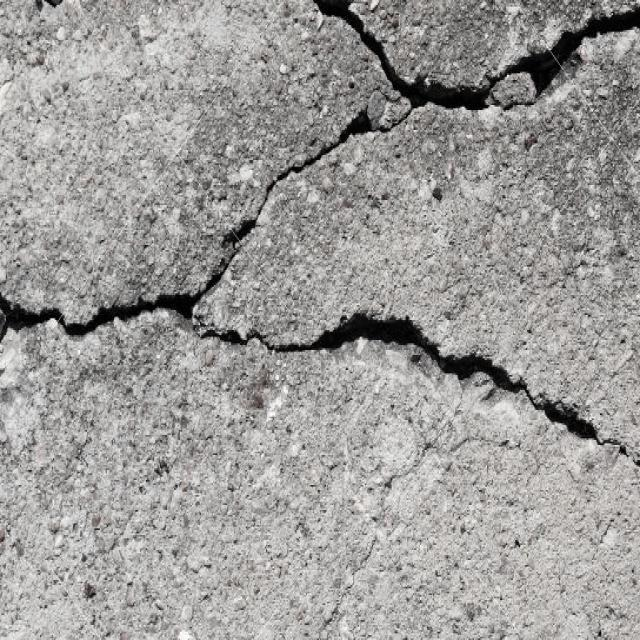Network: (6, 5, 640, 520)
